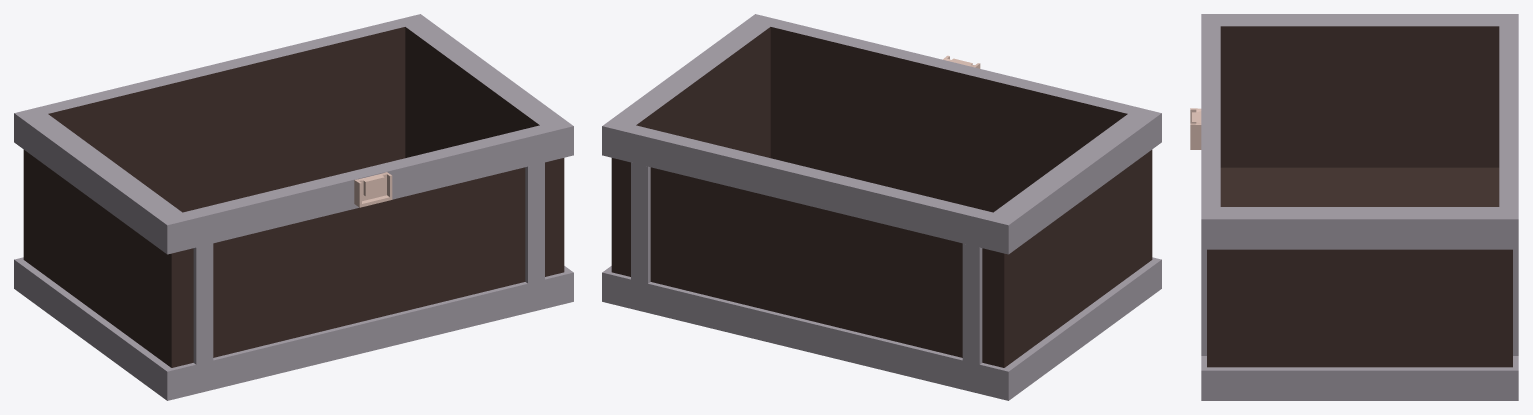
The model's file is TreasureChestEmpty.gltf.
The picture shows the model from 3 angles, left to right: view 1: azimuth 30°, elevation 25°; view 2: azimuth 150°, elevation 25°; view 3: azimuth 270°, elevation 25°; orthographic projection. The views are drawn at different scales.
Visible parts, largest first — view 1: TreasuerChestBase; view 2: TreasuerChestBase; view 3: TreasuerChestBase.
Part boxes in pixels (bbox=[...]): TreasuerChestBase: bbox=[14, 14, 573, 400]; TreasuerChestBase: bbox=[602, 14, 1161, 400]; TreasuerChestBase: bbox=[1190, 14, 1518, 400].
Bounding box in the file's own units: 0.5302 × 0.2193 × 0.3582.
